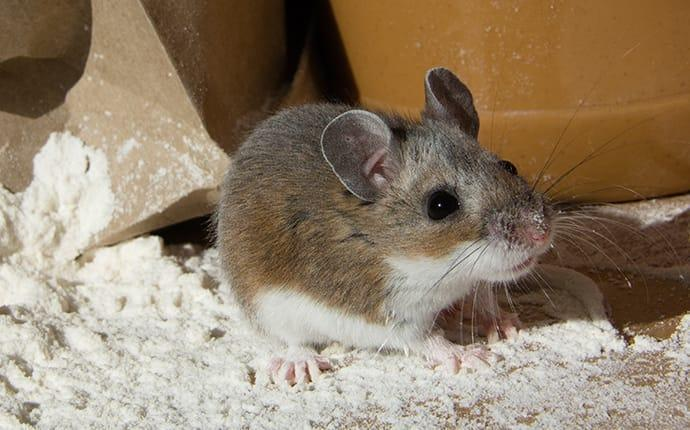rat: (216, 68, 550, 390)
